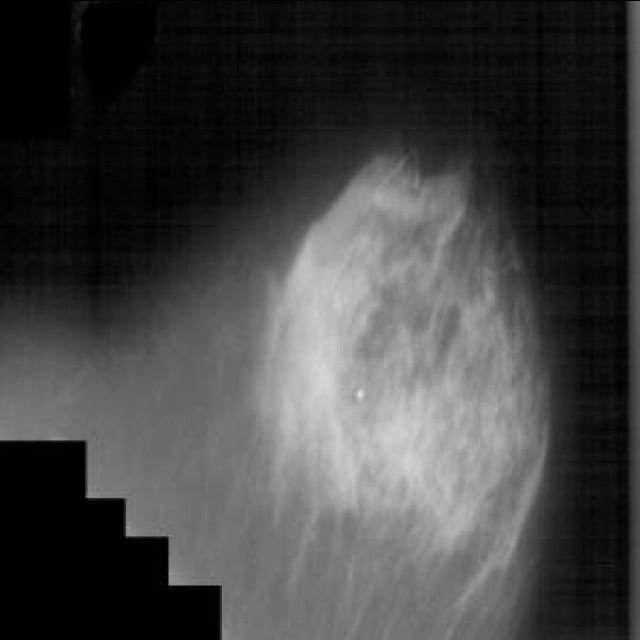tumor: (246, 198, 500, 495)
